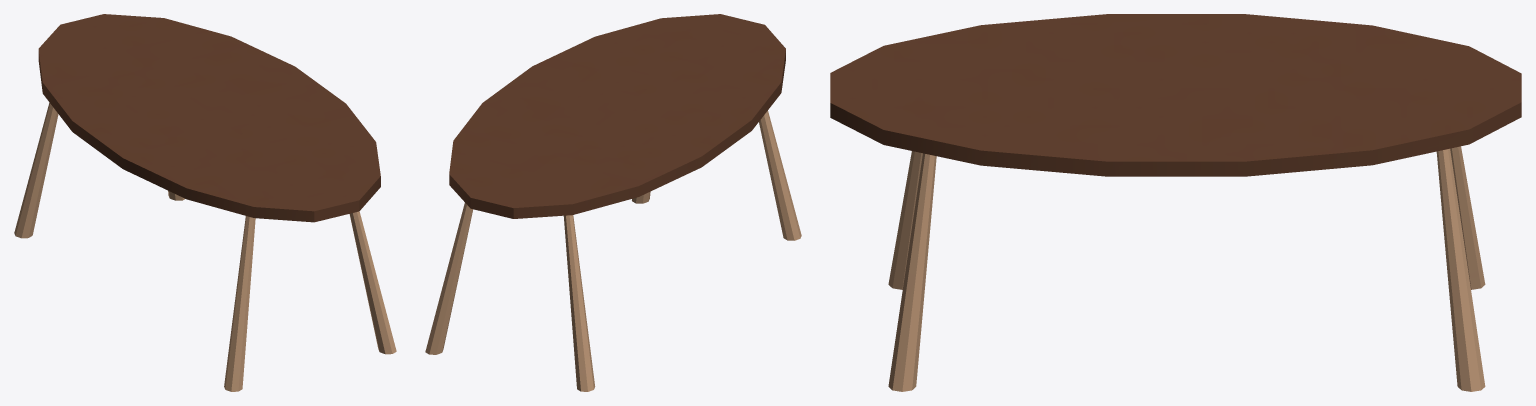
Rendered from Table_03_01.fbx.
3 renders of one model, left to right at view 1: azimuth 30°, elevation 25°; view 2: azimuth 150°, elevation 25°; view 3: azimuth 270°, elevation 25°, orthographic. The views are drawn at different scales.
Visible parts, largest first — view 1: Table_03_01; view 2: Table_03_01; view 3: Table_03_01.
Part boxes in pixels (x1,y1,x2,y2): Table_03_01: (14, 14, 396, 391); Table_03_01: (425, 14, 801, 391); Table_03_01: (830, 14, 1521, 391).
Bounding box in the file's own units: 1.07 × 0.8341 × 2.11.
